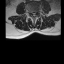CCS_normal: (33, 11, 34, 19)
LFS_severe_stenosis: (36, 9, 38, 14)
LLS_stenosis: (34, 10, 36, 16)
RFS_stenosis: (30, 9, 31, 14)
RLS_stenosis: (31, 10, 33, 15)
